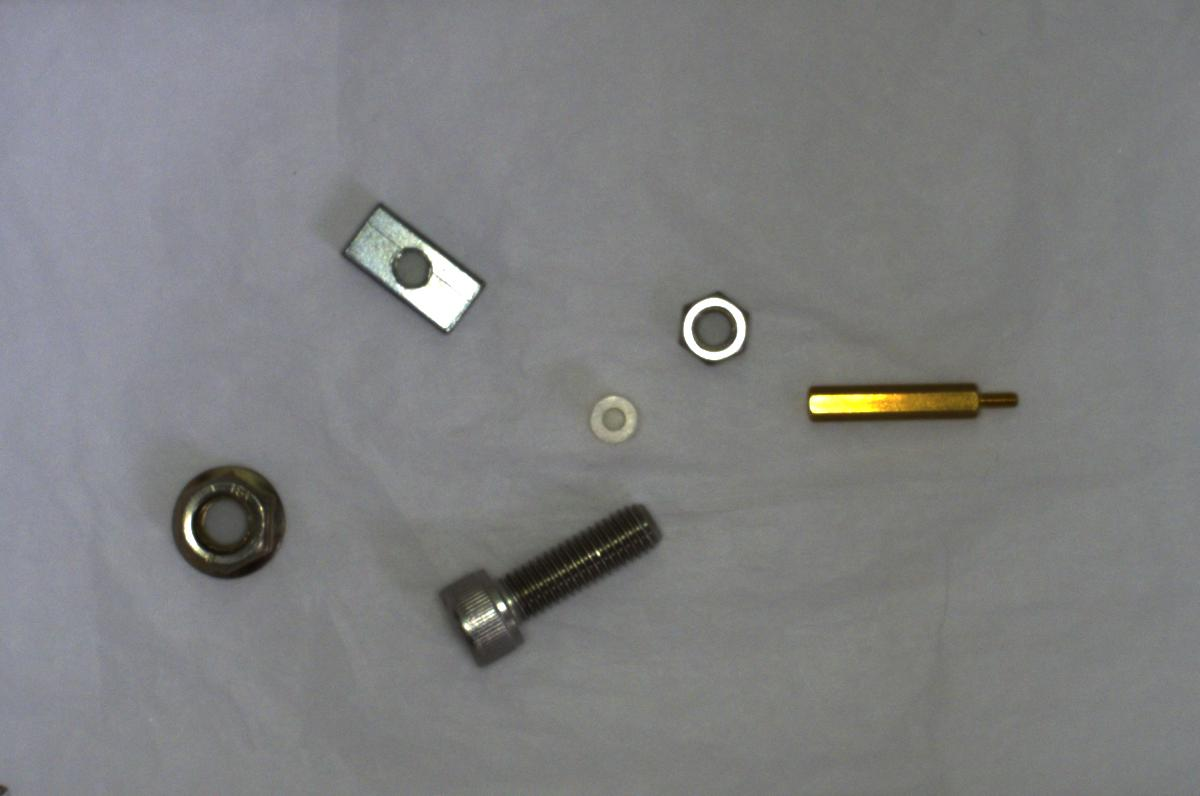Flange nut: (160, 454, 295, 582)
Hexagon nut: (671, 287, 751, 367)
Hexagon pillar: (790, 362, 1046, 439)
Hexagon screw: (428, 500, 666, 670)
Plastic cushion pillar: (582, 388, 646, 450)
Rectangular nut: (335, 200, 490, 339)
